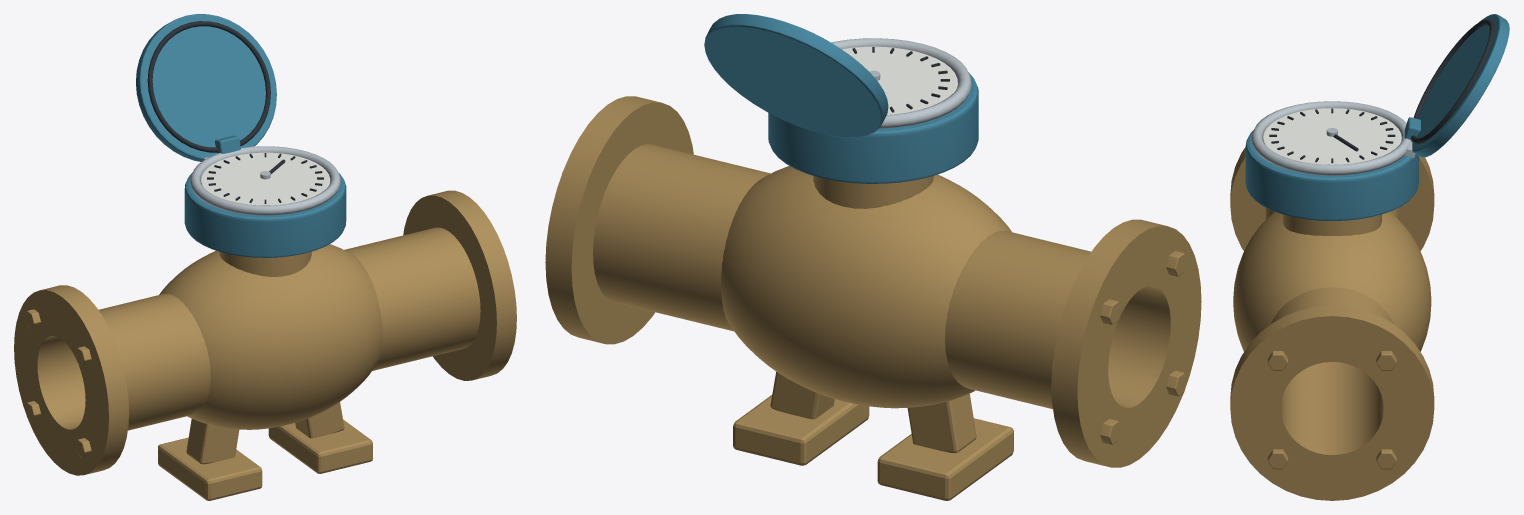
File: city-flanged-water-meter.glb
3 views of the same model, side by side, from view 1: azimuth 30°, elevation 25°; view 2: azimuth 150°, elevation 25°; view 3: azimuth 270°, elevation 25° (orthographic). The views are drawn at different scales.
Visible parts, largest first — view 1: Assembly | Warm cast bronze, Assembly | Blue protective equipment finish, Assembly | Plain meter dial, Assembly | Satin machined steel, Assembly | Dark joint gasket; view 2: Assembly | Warm cast bronze, Assembly | Blue protective equipment finish, Assembly | Plain meter dial, Assembly | Satin machined steel; view 3: Assembly | Warm cast bronze, Assembly | Blue protective equipment finish, Assembly | Plain meter dial, Assembly | Satin machined steel, Assembly | Dark joint gasket.
Boxes of the visible parts, bbox=[...] form: Assembly | Warm cast bronze: bbox=[14, 190, 516, 500]; Assembly | Blue protective equipment finish: bbox=[136, 14, 346, 257]; Assembly | Plain meter dial: bbox=[200, 152, 330, 205]; Assembly | Satin machined steel: bbox=[190, 146, 340, 215]; Assembly | Dark joint gasket: bbox=[147, 21, 323, 203]; Assembly | Warm cast bronze: bbox=[545, 96, 1201, 500]; Assembly | Blue protective equipment finish: bbox=[704, 14, 978, 183]; Assembly | Plain meter dial: bbox=[842, 46, 957, 114]; Assembly | Satin machined steel: bbox=[831, 38, 971, 128]; Assembly | Warm cast bronze: bbox=[1230, 147, 1434, 500]; Assembly | Blue protective equipment finish: bbox=[1245, 14, 1509, 220]; Assembly | Plain meter dial: bbox=[1262, 108, 1401, 164]; Assembly | Satin machined steel: bbox=[1251, 101, 1415, 175]; Assembly | Dark joint gasket: bbox=[1269, 19, 1494, 163].
Bounding box in the file's own units: 0.5482 × 0.4852 × 0.293.
